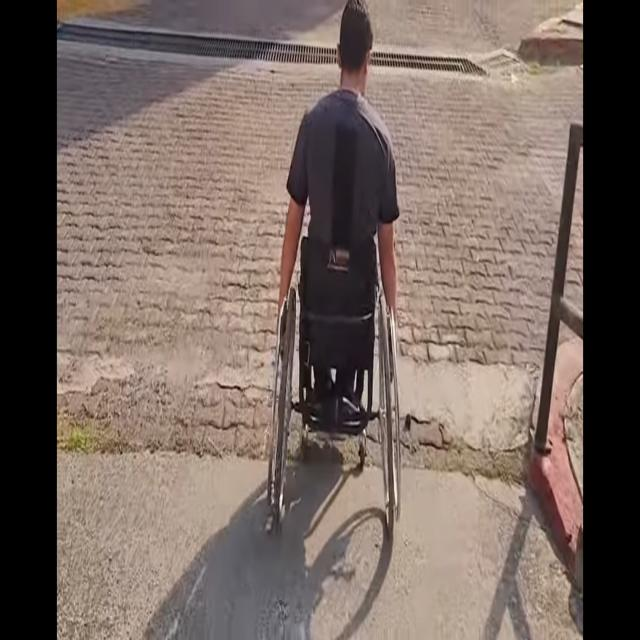wheelchairs: (266, 234, 406, 543)
